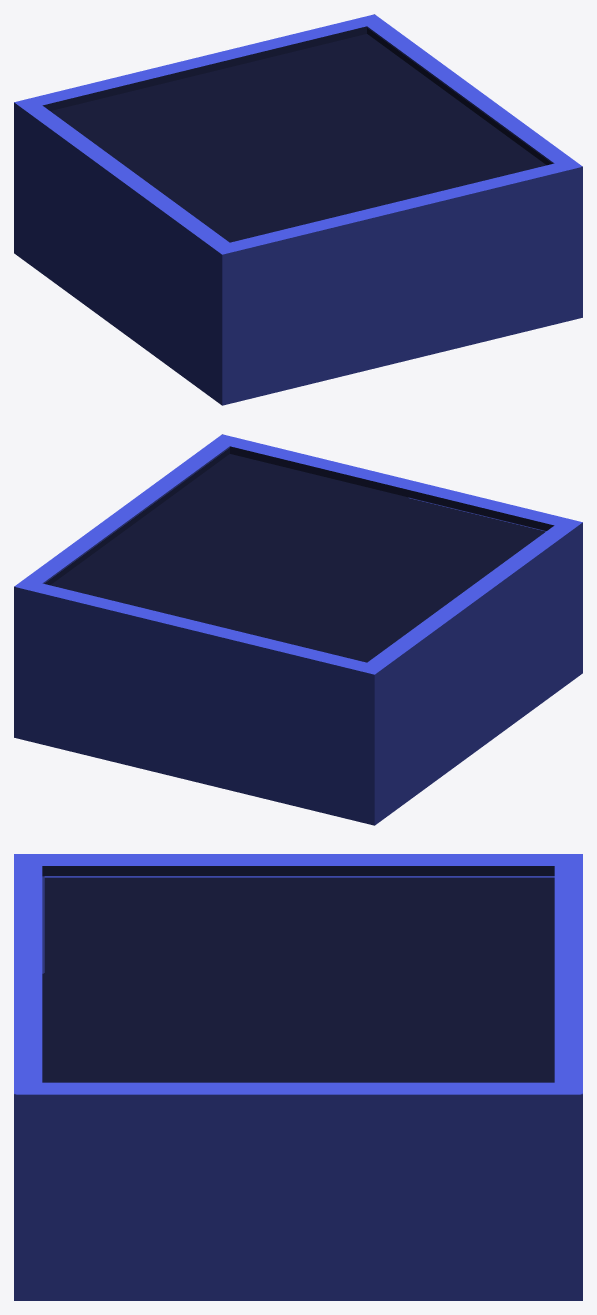
Rendered from tile.glb.
3 views of the same model, one above another, from view 1: azimuth 30°, elevation 25°; view 2: azimuth 150°, elevation 25°; view 3: azimuth 270°, elevation 25° (orthographic). The views are drawn at different scales.
Parts seen in each view (by area): view 1: Cube; view 2: Cube; view 3: Cube.
Part boxes in pixels (left/top/right/bottom): Cube: left=14, top=14, right=582, bottom=405; Cube: left=14, top=434, right=582, bottom=825; Cube: left=14, top=854, right=582, bottom=1300.
Bounding box in the file's own units: 10 × 4 × 10.
1 material, 1 textured.
